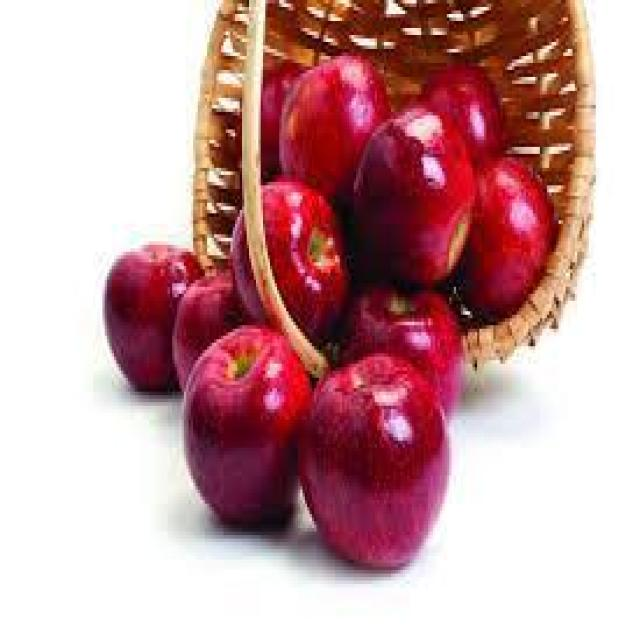maca: (102, 0, 594, 567)
